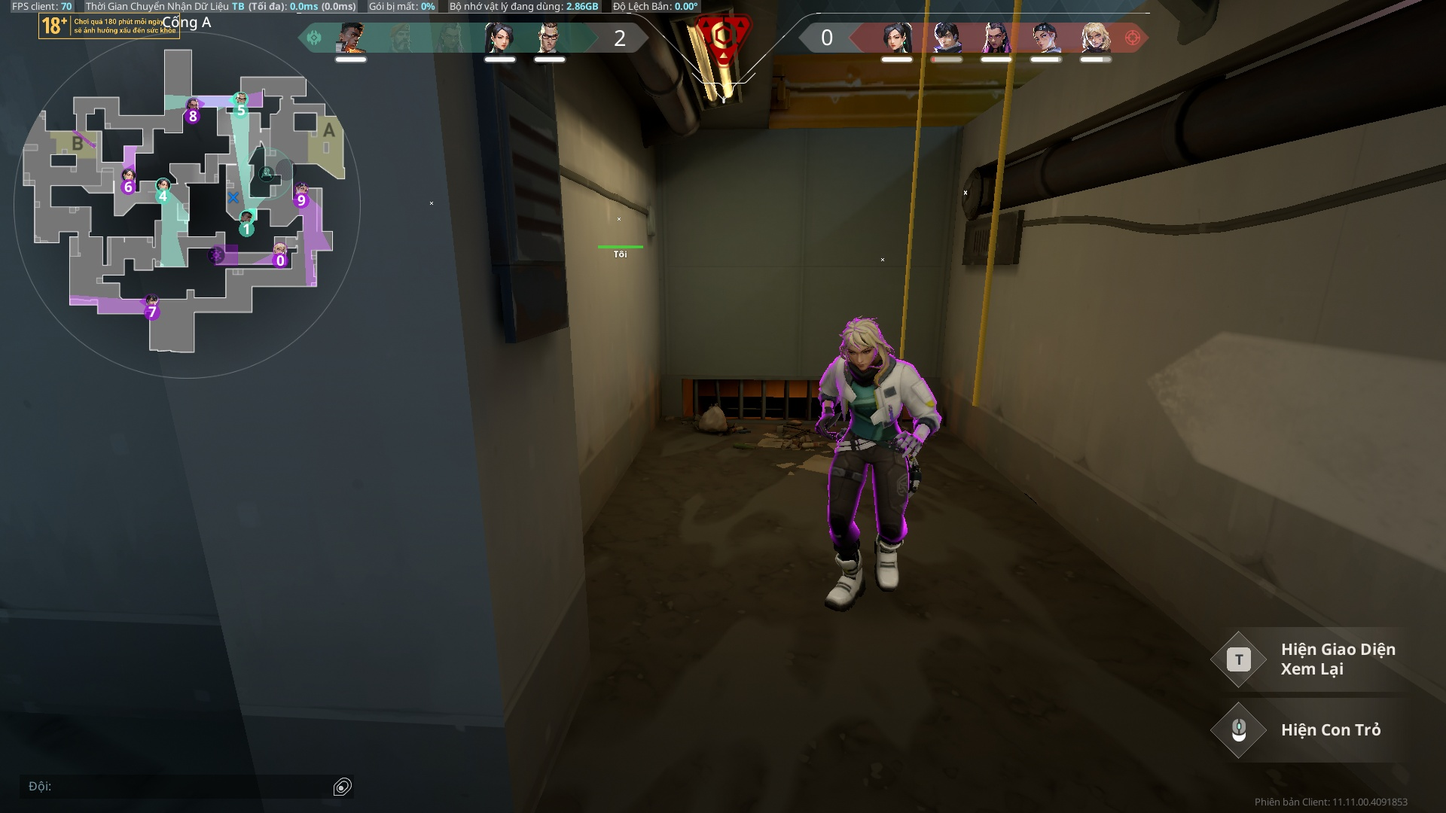body: (825, 355, 914, 443)
head: (839, 316, 882, 371)
